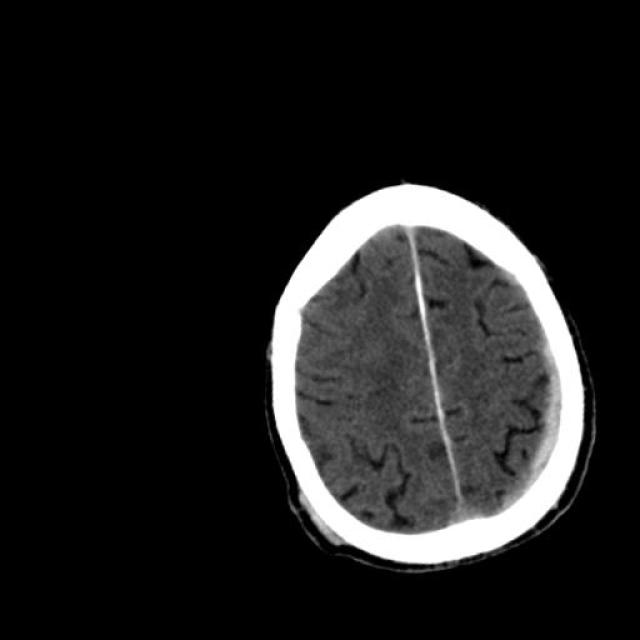Subdural: (461, 330, 608, 545)
